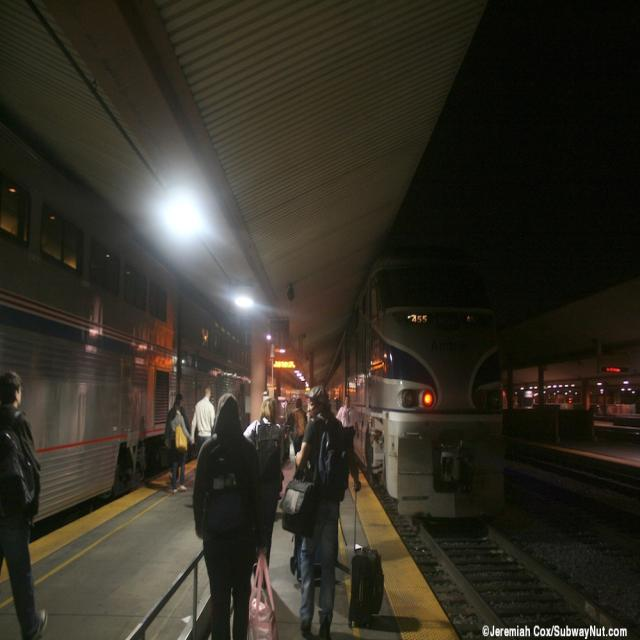body: (188, 389, 282, 639), (278, 382, 362, 639), (0, 370, 48, 636), (240, 395, 286, 592), (163, 390, 192, 484), (167, 399, 194, 496), (188, 383, 216, 453), (334, 394, 360, 444), (290, 396, 308, 457)
